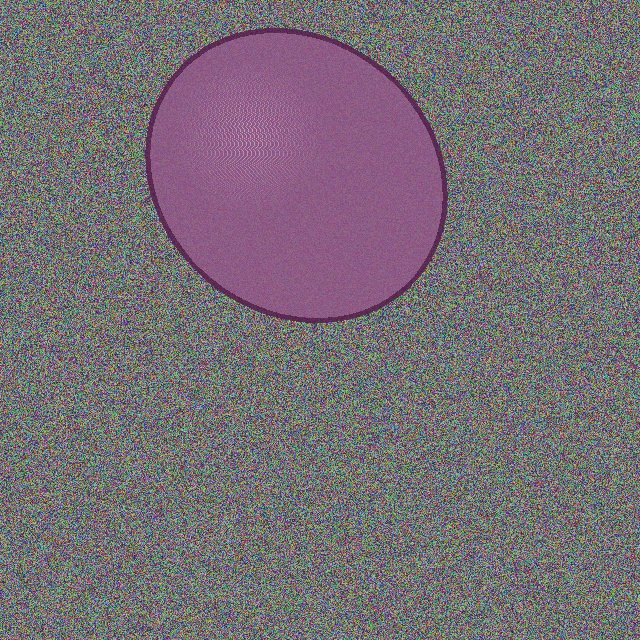lens: (148, 30, 444, 320)
